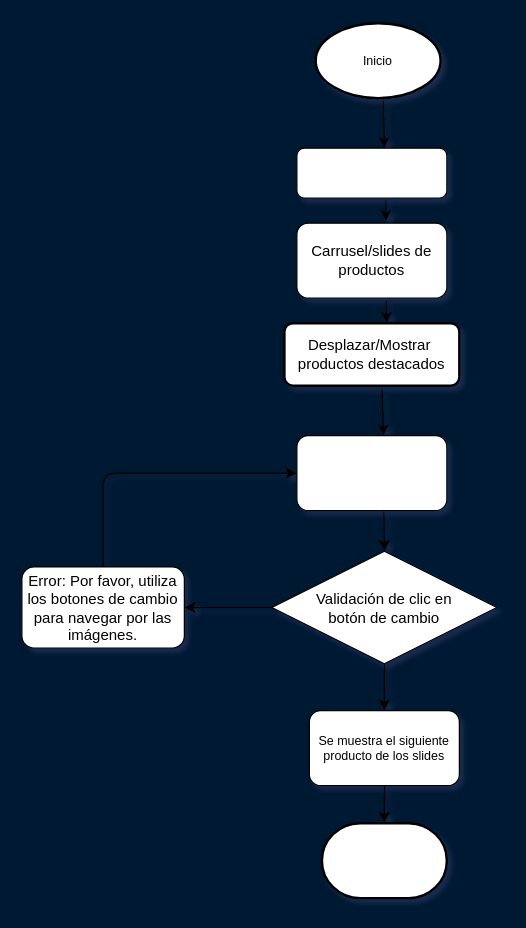
The diagram is 526 pixels wide and 928 high, and some of its shapes have lost their labels. The centre of each missing label's shape, as x and y in pixels:
Clic en botones de cambio para desplazar slides: the point at 371,472
Fin: the point at 384,860
Menú/Página de inicio: the point at 371,172
